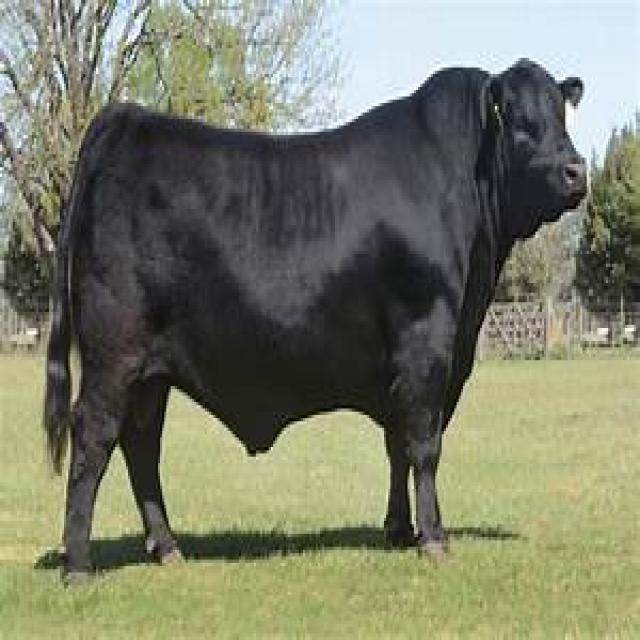cow: (38, 58, 591, 582)
